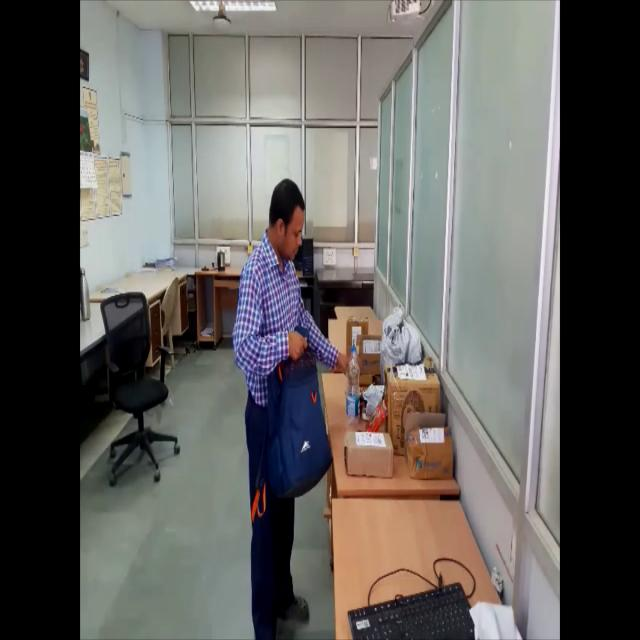shoplifting: (232, 167, 345, 640)
